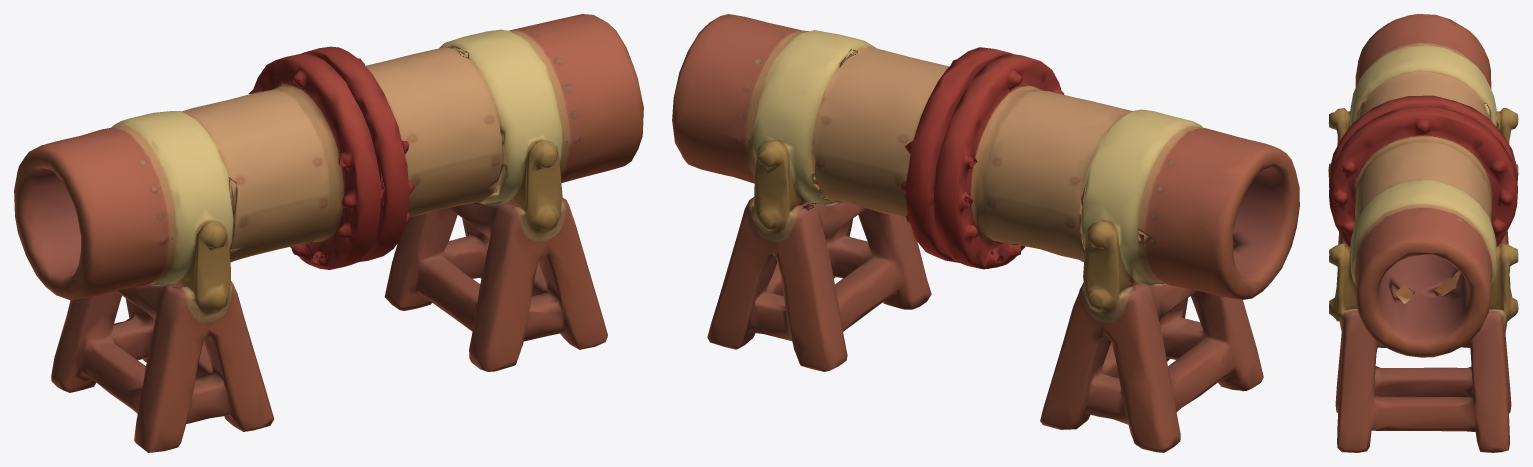
File: truba-na-kozlakh.glb
3 views of the same model, side by side, from view 1: azimuth 30°, elevation 25°; view 2: azimuth 150°, elevation 25°; view 3: azimuth 270°, elevation 25° (orthographic). The views are drawn at different scales.
Parts seen in each view (by area): view 1: geometry_0; view 2: geometry_0; view 3: geometry_0.
Part boxes in pixels (x1,y1,x2,y2): geometry_0: (14, 14, 643, 452); geometry_0: (672, 14, 1299, 452); geometry_0: (1328, 14, 1518, 452).
Size of the model in its own units: 1 by 0.5248 by 0.3514.
Materials: 1 (1 with a texture image).
